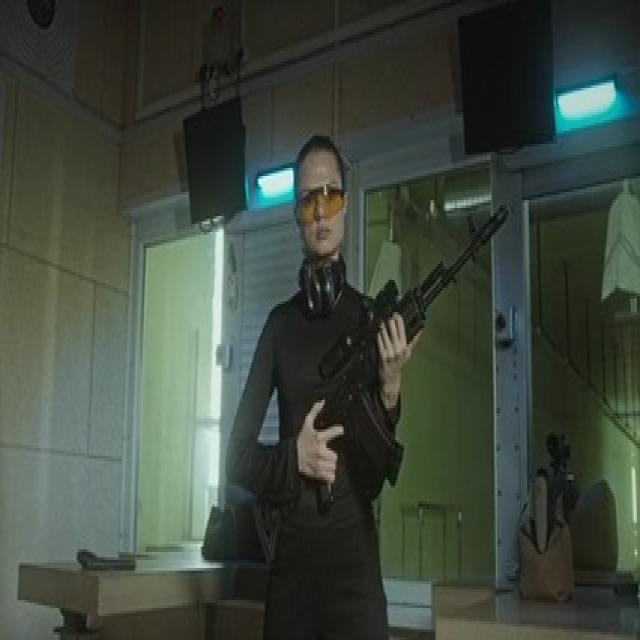Gun_Holder: (265, 202, 525, 509)
Person: (225, 108, 408, 595)
